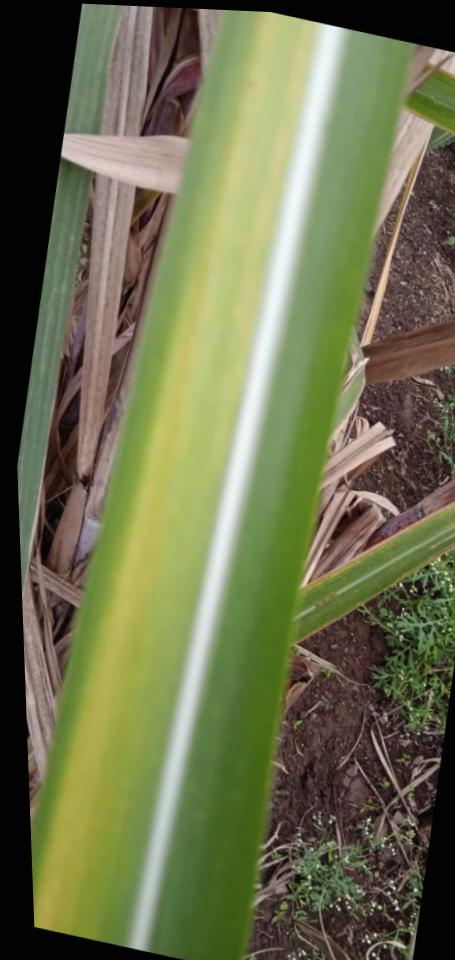Yellow: (34, 295, 206, 930)
